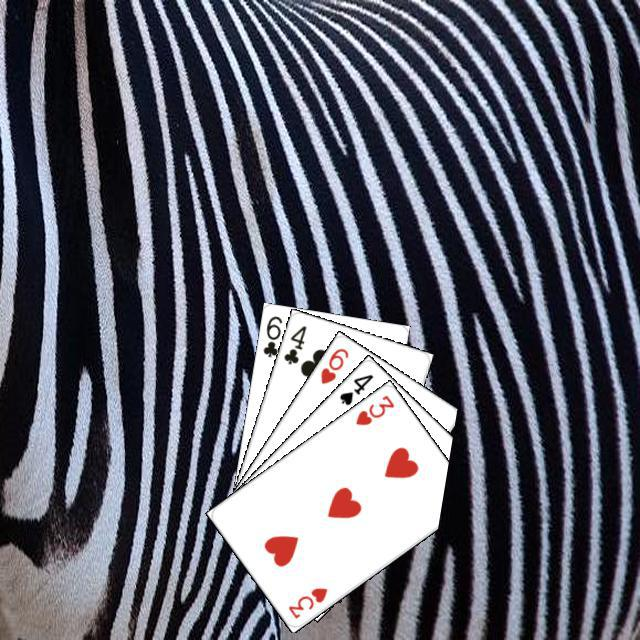3h: (283, 582, 329, 621), (351, 390, 396, 427)
4c: (279, 321, 308, 366)
4s: (334, 369, 375, 407)
6c: (258, 311, 284, 359)
6h: (315, 343, 350, 386)
